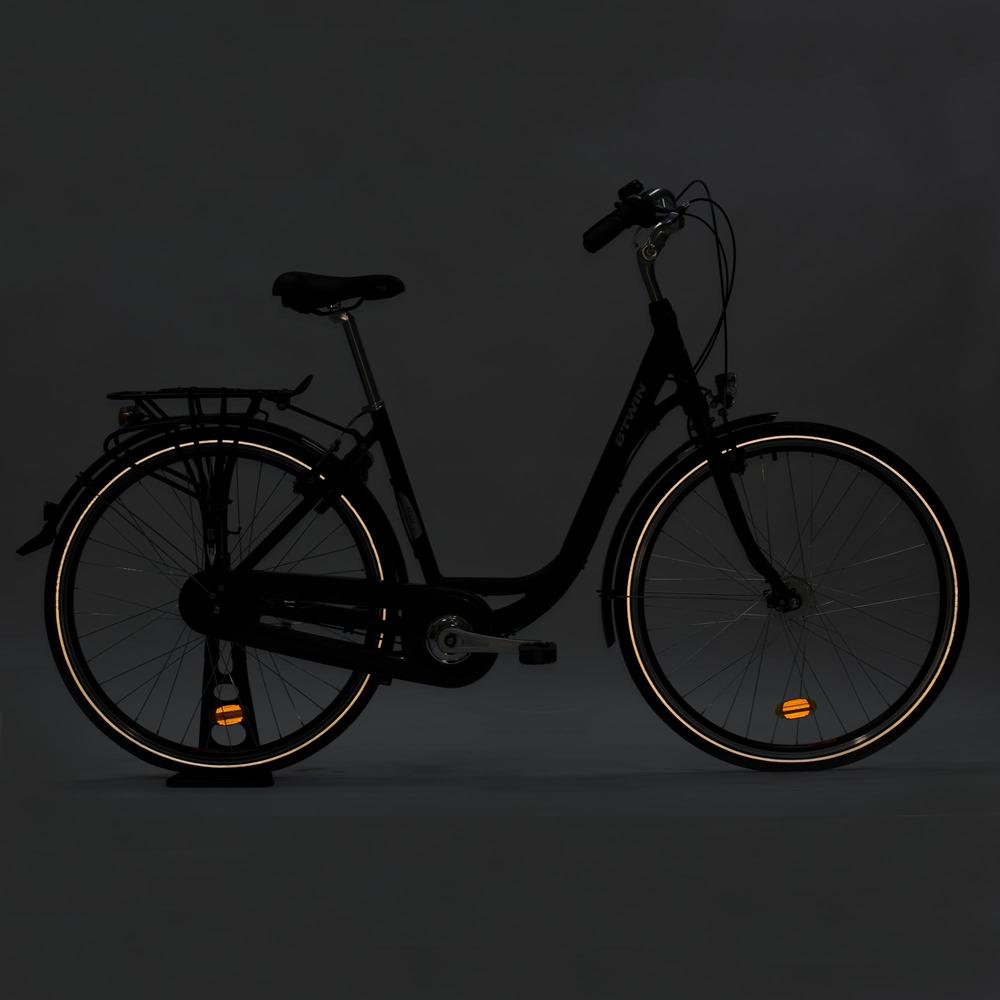UrbanBike: (25, 170, 980, 785)
